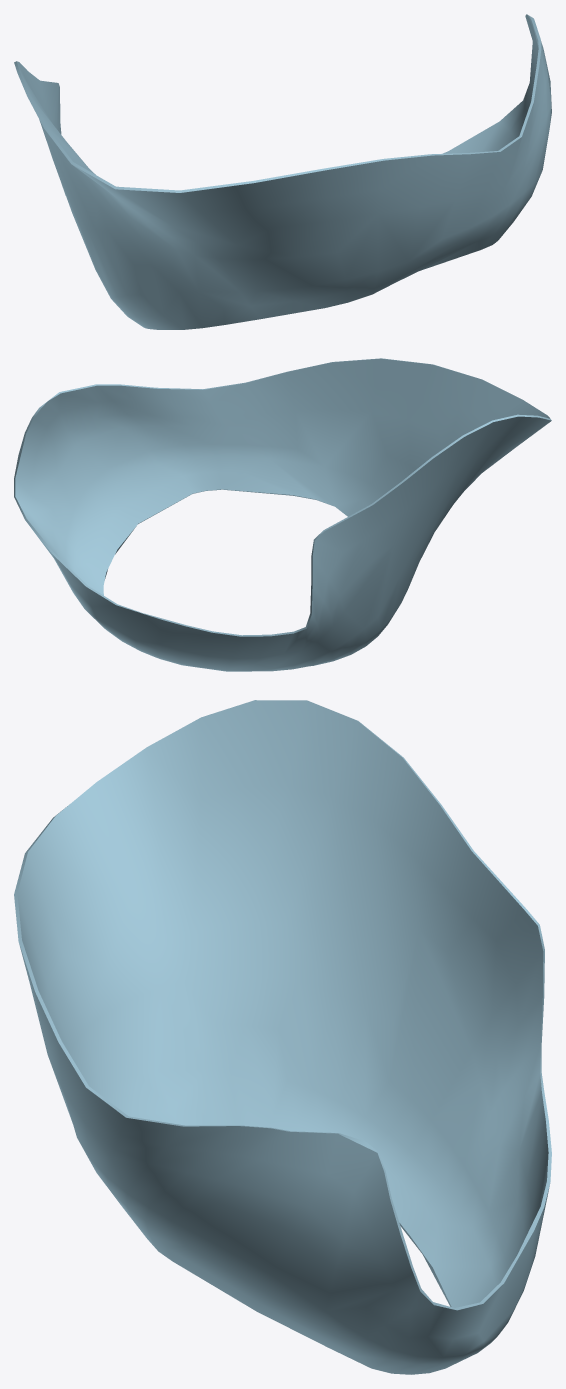
File: articulacoes-articular-capsule-of-temporomandibular-joint-r.glb
3 views of the same model, one above another, from view 1: azimuth 30°, elevation 25°; view 2: azimuth 150°, elevation 25°; view 3: azimuth 270°, elevation 25° (orthographic). The views are drawn at different scales.
Visible parts, largest first — view 1: Articular capsule of temporomandibular joint.r; view 2: Articular capsule of temporomandibular joint.r; view 3: Articular capsule of temporomandibular joint.r.
Part boxes in pixels (x1,y1,x2,y2): Articular capsule of temporomandibular joint.r: [14, 14, 551, 329]; Articular capsule of temporomandibular joint.r: [14, 358, 551, 671]; Articular capsule of temporomandibular joint.r: [14, 700, 551, 1374].
Bounding box in the file's own units: 0.0229 × 0.0129 × 0.0147.
